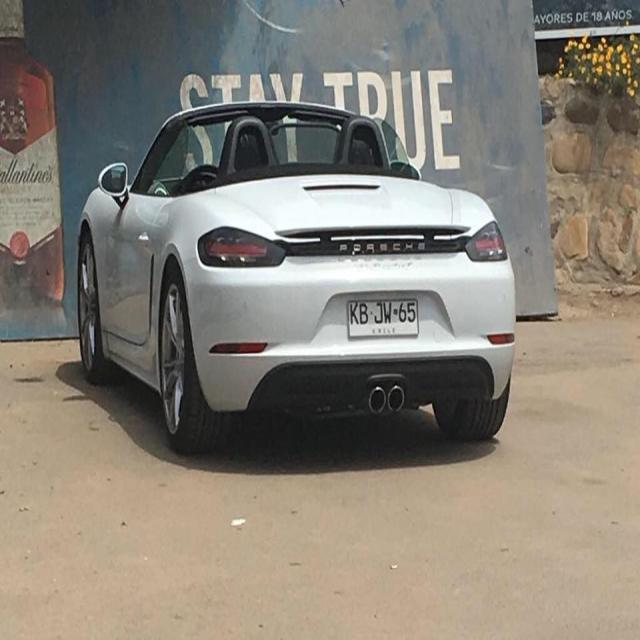patente: (346, 296, 419, 338)
